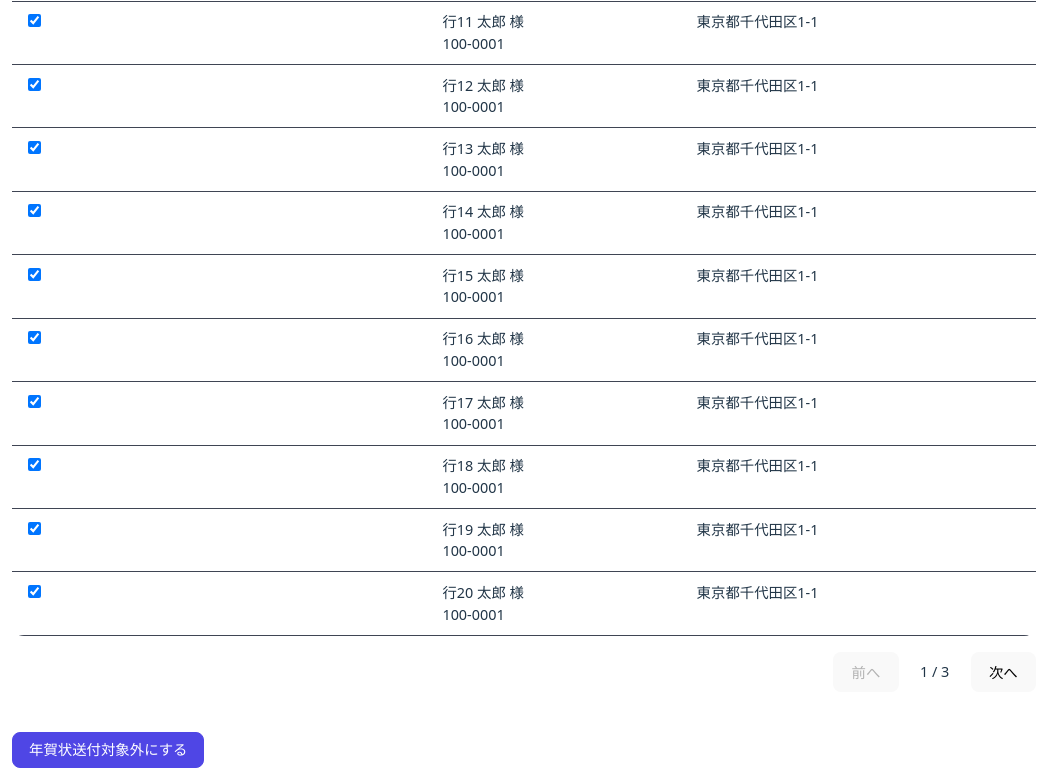
Test case: NengaTargetReviewPage › returns to the first page after a successful disable
(page scrolled)
Step 1. Click the button "次へ" → coordinates (1003, 672), box x1=971 y1=652 x2=1036 y2=692
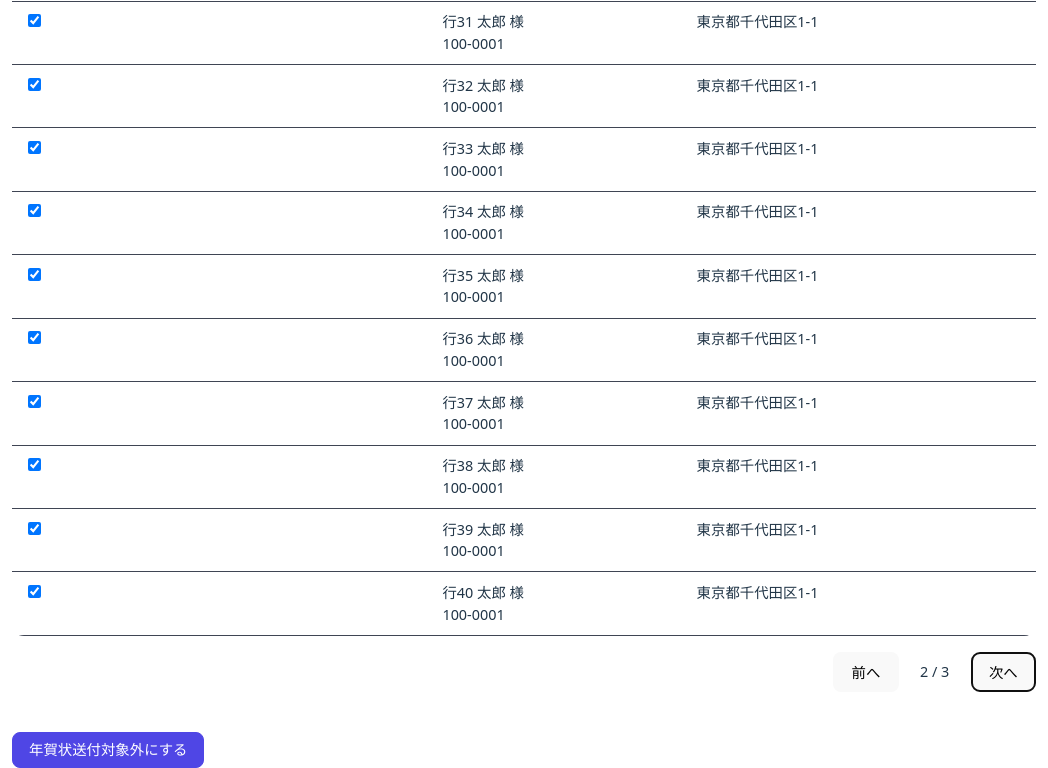
Step 2. Click the button "次へ" → coordinates (1003, 672), box x1=971 y1=652 x2=1036 y2=692
(page scrolled)
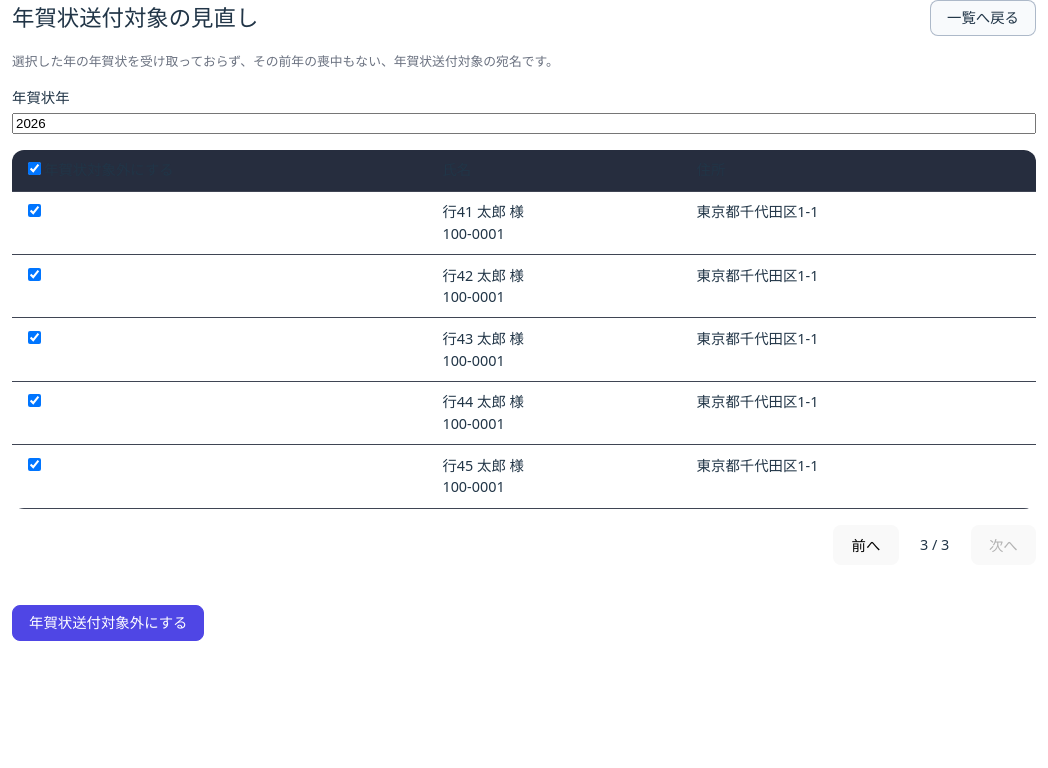
Expected: the text "3 / 3" is shown, x1=920 y1=535 x2=949 y2=554
Step 3. Click the button "年賀状送付対象外にする" → coordinates (108, 623), box x1=12 y1=605 x2=204 y2=641
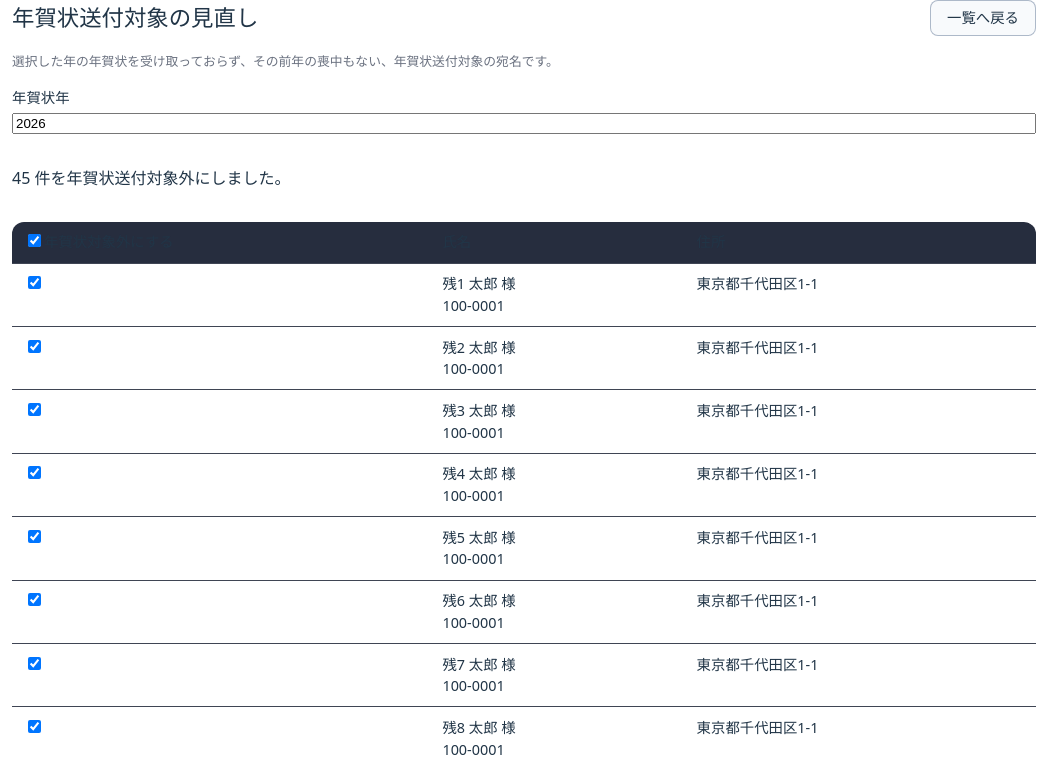
Expected: the checkbox named "残1 太郎 様 を年賀状対象外にする" is shown, x1=28 y1=276 x2=41 y2=289
